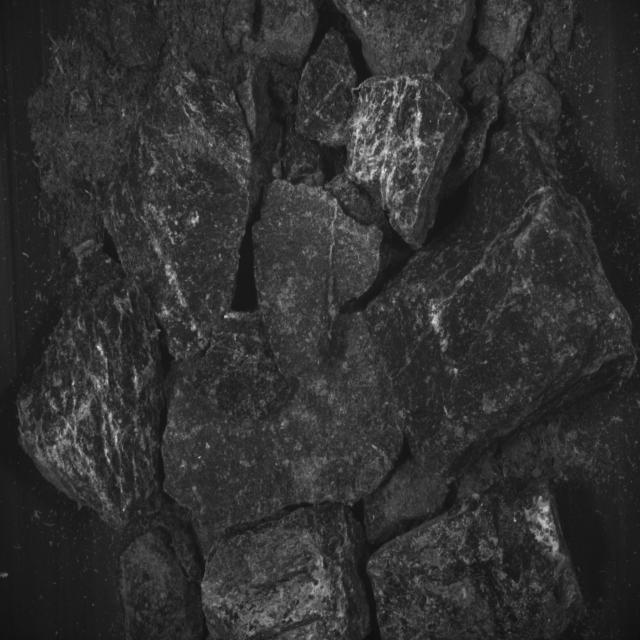Stones: (367, 124, 636, 477), (164, 314, 404, 545), (105, 61, 252, 360), (19, 281, 165, 529), (369, 485, 584, 640), (254, 181, 384, 378), (202, 506, 371, 640), (347, 75, 469, 249), (336, 1, 475, 85), (121, 531, 205, 640), (296, 29, 357, 148)
